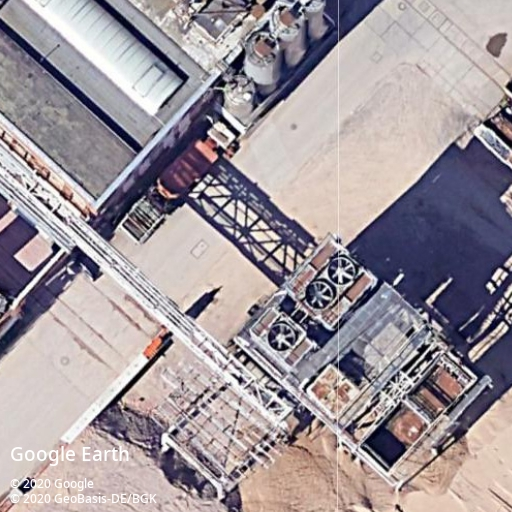Vent: (328, 256, 356, 286), (306, 281, 334, 310), (268, 323, 296, 352)
